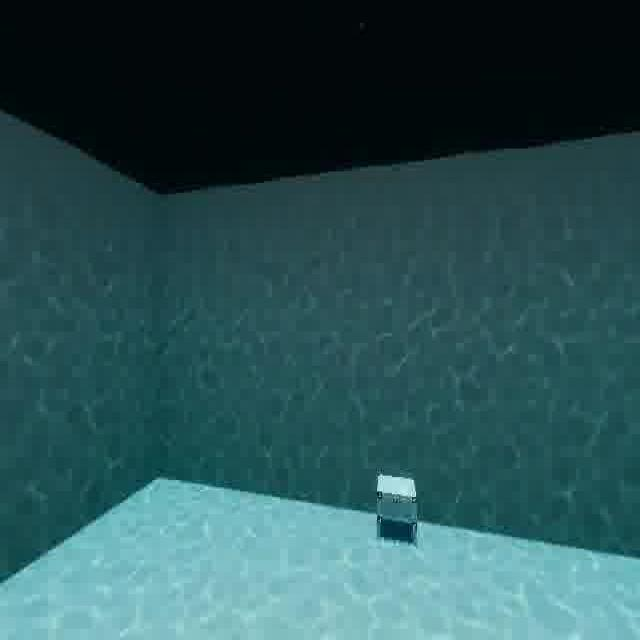Docking Station: (371, 460, 422, 554)
